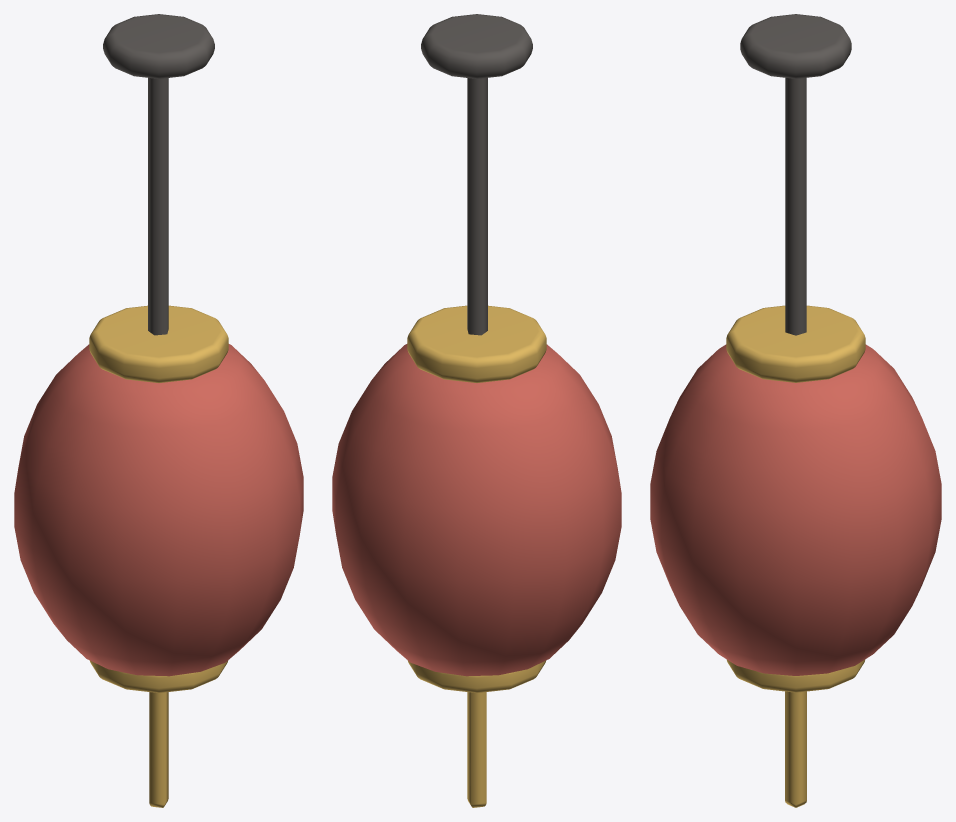
File: red_paper_lantern.glb
The picture shows the model from 3 angles, left to right: view 1: azimuth 30°, elevation 25°; view 2: azimuth 150°, elevation 25°; view 3: azimuth 270°, elevation 25°; orthographic projection.
Parts seen in each view (by area): view 1: red_paper_lantern_mesh; view 2: red_paper_lantern_mesh; view 3: red_paper_lantern_mesh.
Part boxes in pixels (x1=…): red_paper_lantern_mesh: x1=14, y1=14, x2=303, y2=807; red_paper_lantern_mesh: x1=332, y1=14, x2=621, y2=807; red_paper_lantern_mesh: x1=650, y1=14, x2=941, y2=807.
Size of the model in its own units: 0.2089 by 0.61 by 0.2089.
